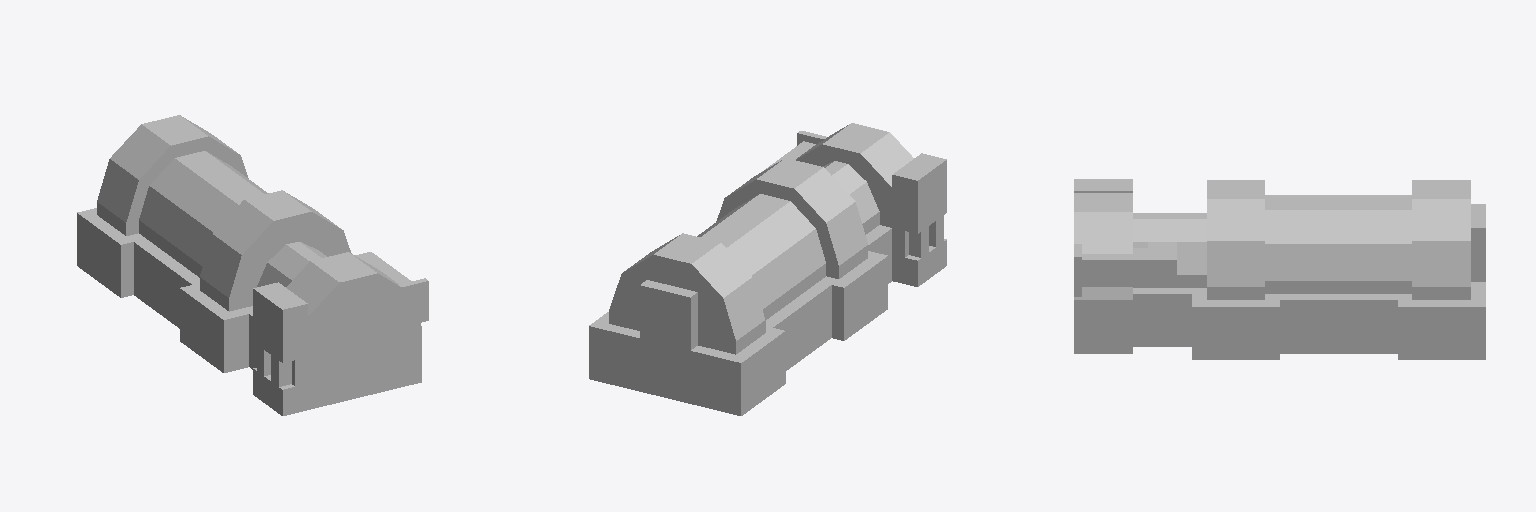
Rendered from gas_turbine_mirrored.obj.
3 views of the same model, side by side, from view 1: azimuth 30°, elevation 25°; view 2: azimuth 150°, elevation 25°; view 3: azimuth 270°, elevation 25° (orthographic).
Parts seen in each view (by area): view 1: Cube.030_Cube.028; view 2: Cube.030_Cube.028; view 3: Cube.030_Cube.028.
Part boxes in pixels (x1,y1,x2,y2): Cube.030_Cube.028: (77,115,428,415); Cube.030_Cube.028: (589,123,946,415); Cube.030_Cube.028: (1074,179,1485,359).
Bounding box in the file's own units: 3 × 2.5 × 7.